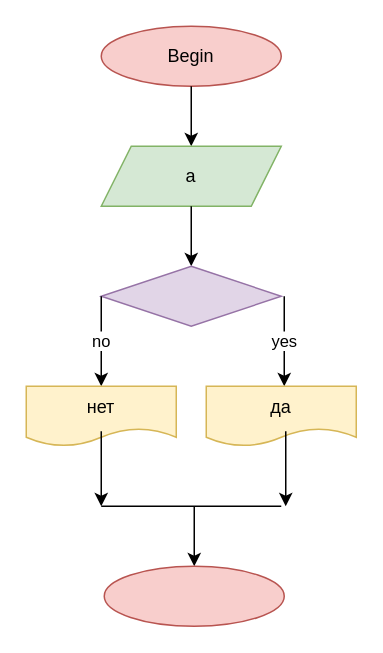
The diagram is 383 pixels wide and 653 high, and some of its shapes have lost their labels. Each missing label, with the box of its shape:
a % 2 == 0 ?: (100, 265, 281, 326)
End: (103, 565, 284, 626)
